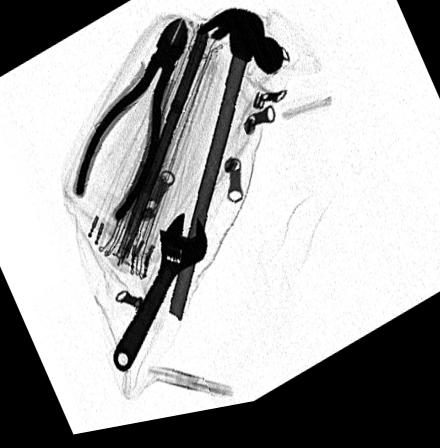Hammer: (165, 15, 285, 329)
Pliers: (73, 26, 187, 229)
Wrench: (110, 218, 207, 376)
